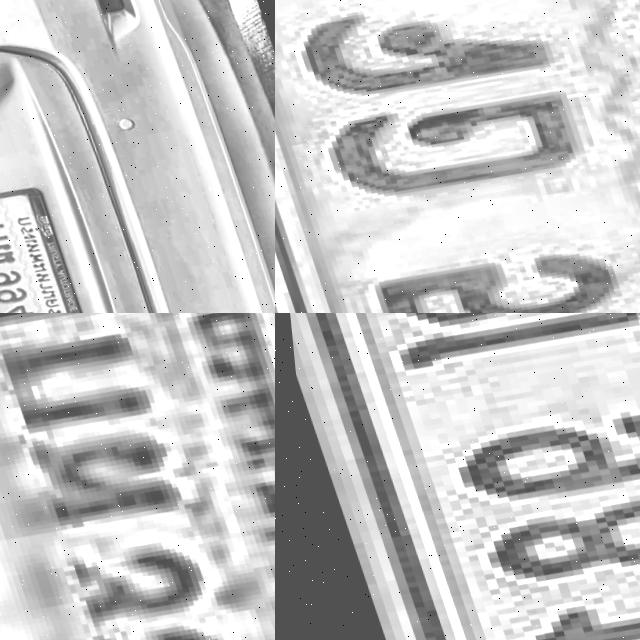license-plate: (275, 313, 640, 640), (275, 0, 640, 313), (0, 313, 275, 640), (0, 174, 83, 313)
